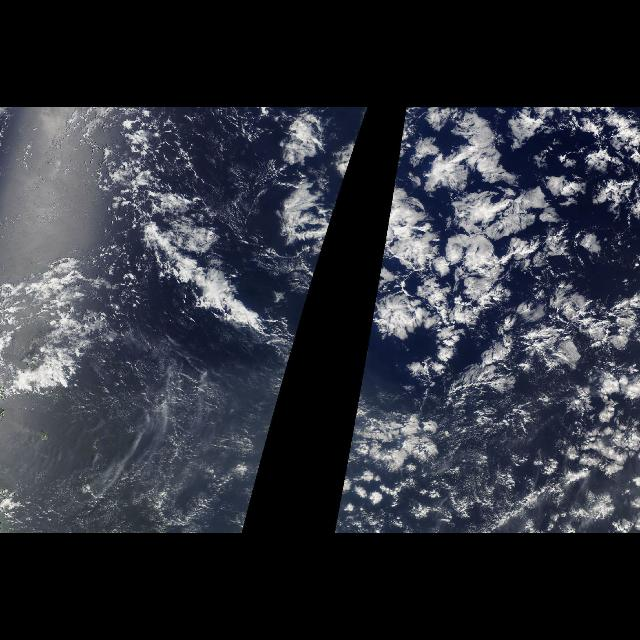Fish: (90, 160, 312, 336)
Flower: (358, 119, 640, 398), (274, 119, 366, 398)
Gravel: (336, 388, 640, 534), (78, 110, 245, 274)
Sugar: (8, 393, 272, 533)
